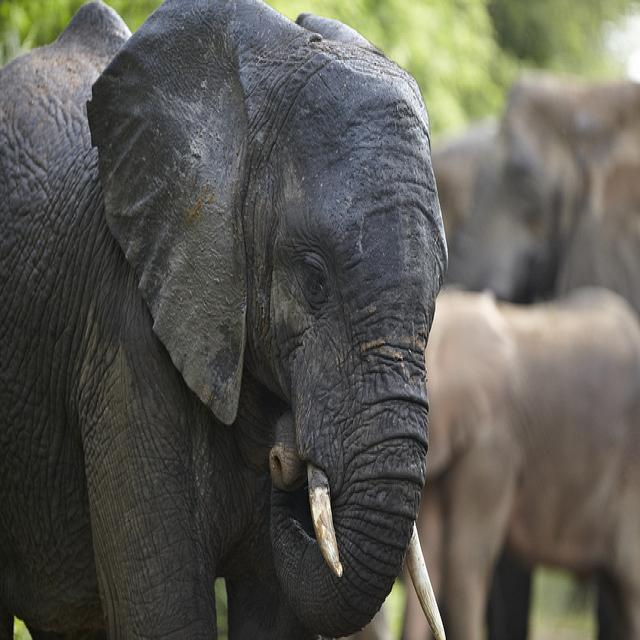Elephant: (0, 0, 449, 639), (407, 284, 639, 638)
